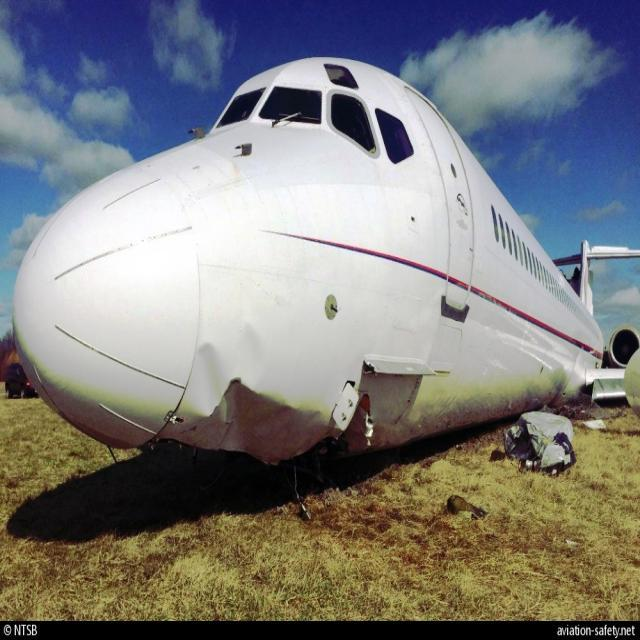dent: (197, 346, 228, 414), (239, 324, 268, 389)
